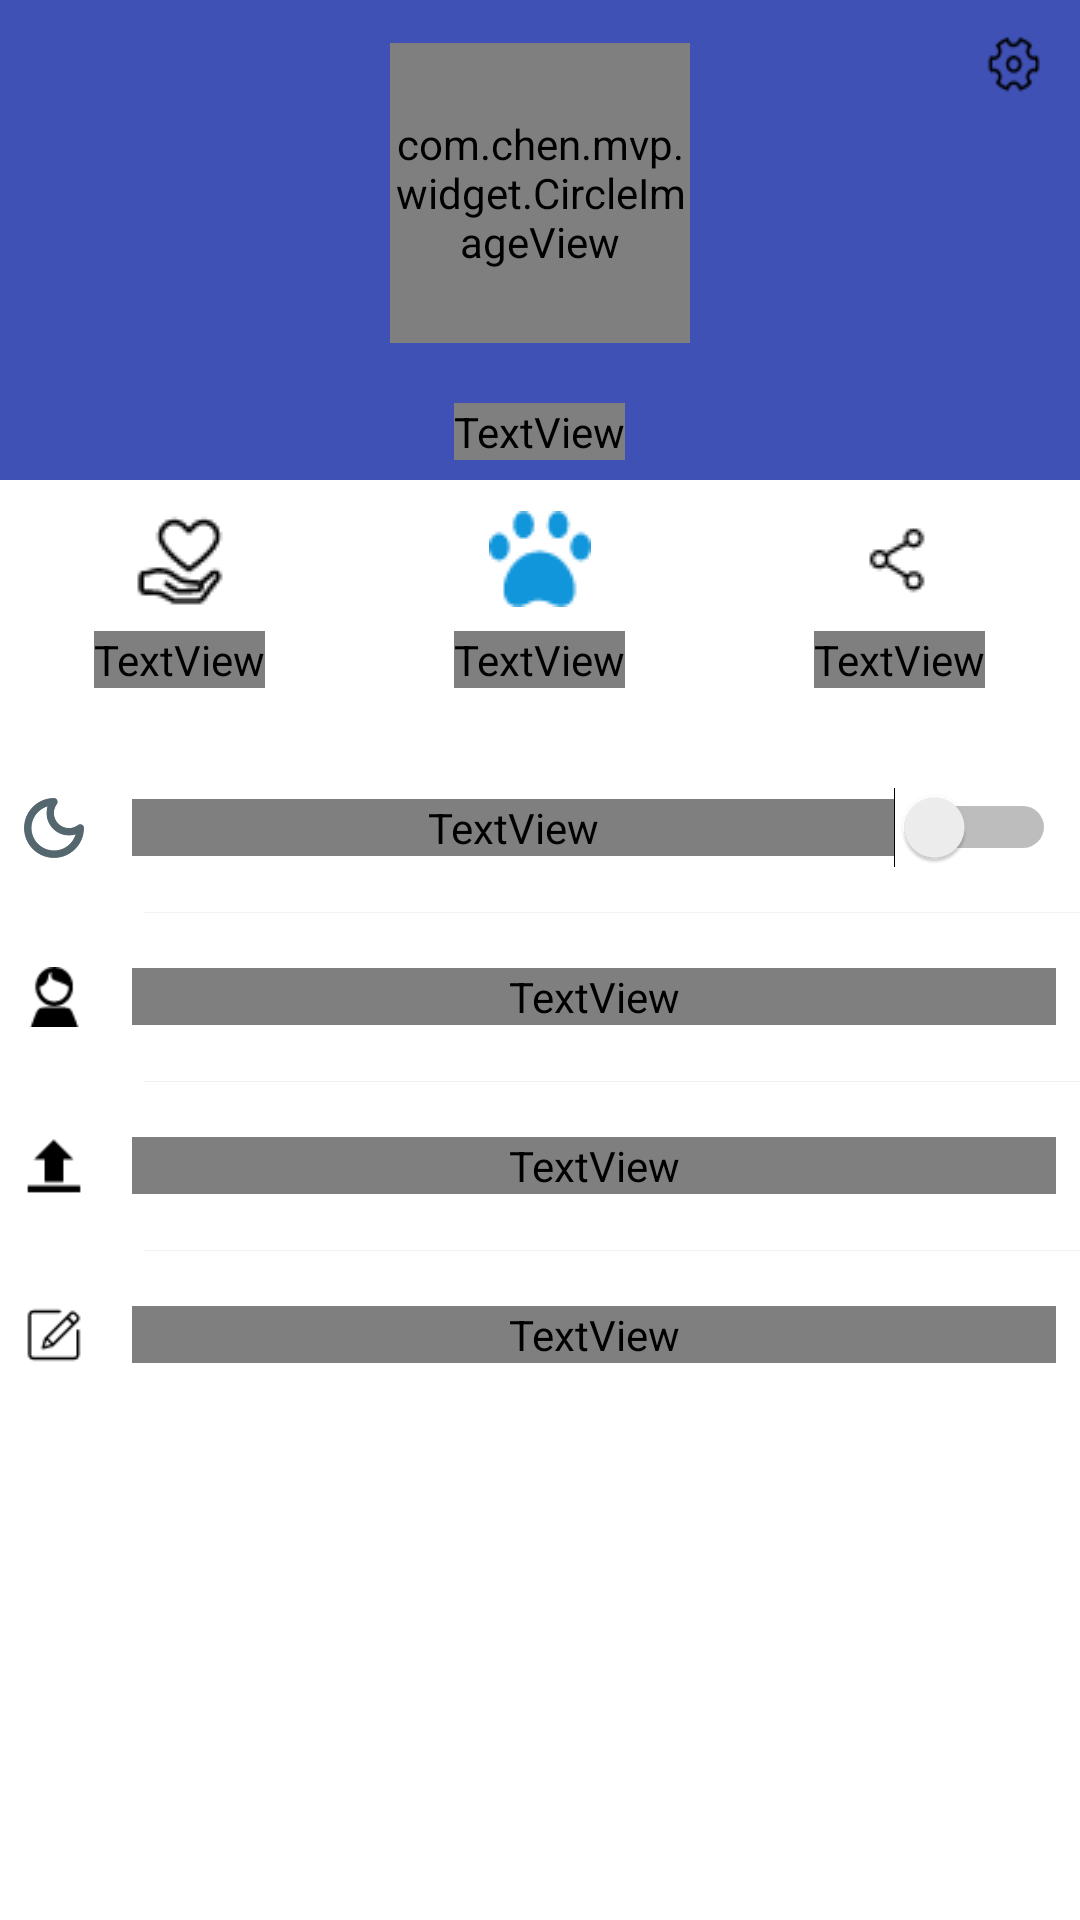

Screen size 1080w x 1920h. Icon name, then its center in pixels as (x,y):
mine attention: (180,561)
mine setting: (1014,64)
mine share: (897,560)
mine track: (540,559)
